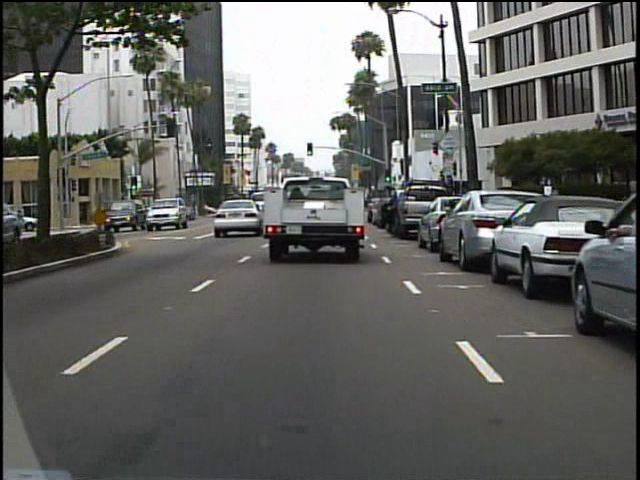person: (380, 184, 402, 235)
